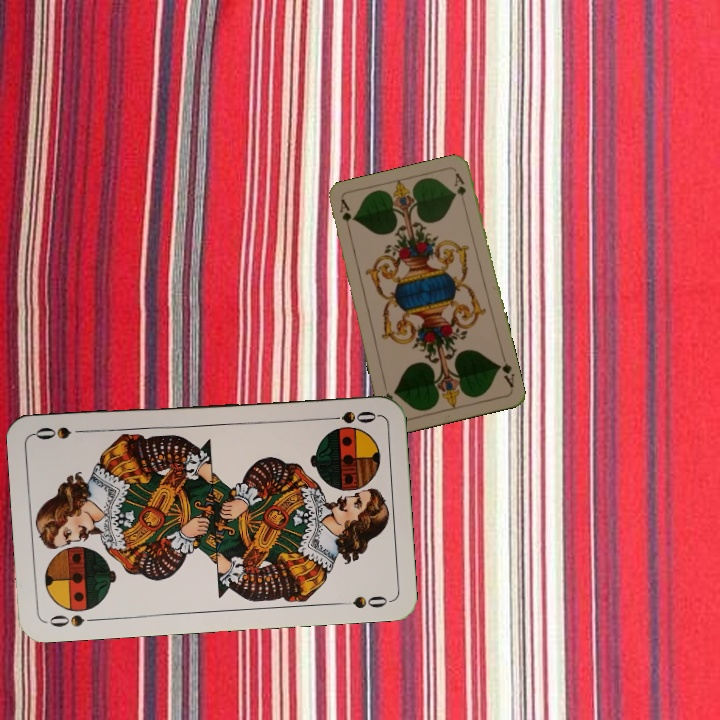GA: (494, 351, 517, 390), (335, 196, 355, 236)
SO: (320, 407, 380, 426), (45, 610, 102, 630)
